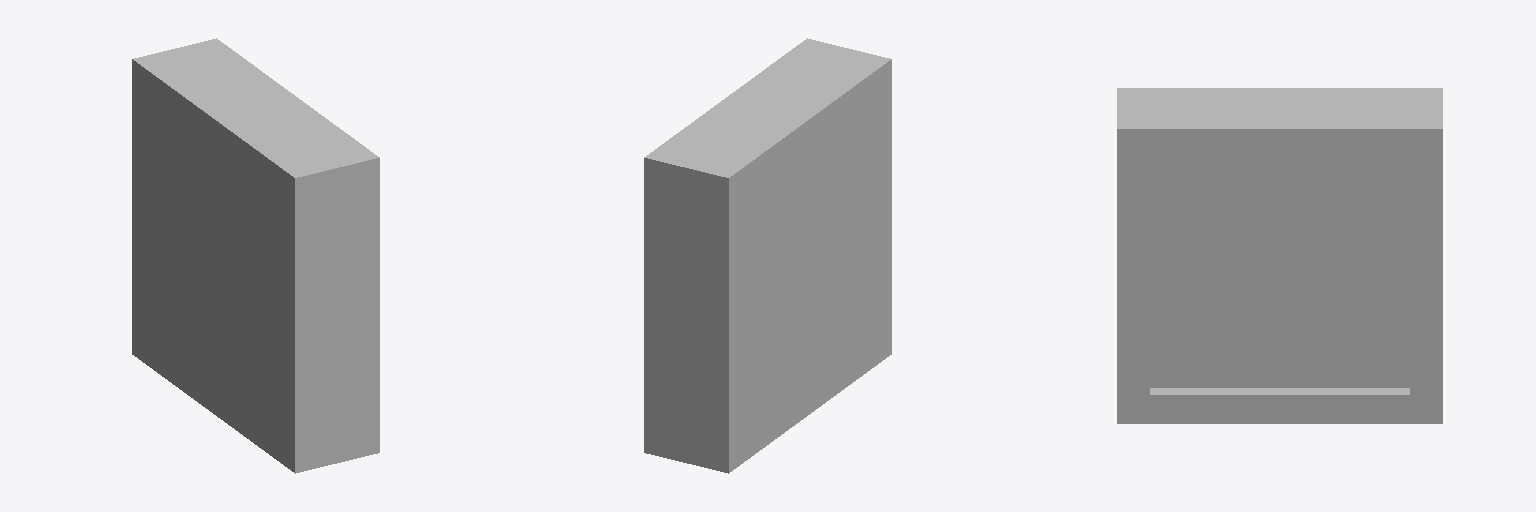
File: controlpanel.obj
The picture shows the model from 3 angles: view 1: azimuth 30°, elevation 25°; view 2: azimuth 150°, elevation 25°; view 3: azimuth 270°, elevation 25°; orthographic projection.
Visible parts, largest first — view 1: controlpanel_Cube.001; view 2: controlpanel_Cube.001; view 3: controlpanel_Cube.001.
Part boxes in pixels (x1,y1,x2,y2): controlpanel_Cube.001: (132, 38, 379, 473); controlpanel_Cube.001: (644, 38, 891, 473); controlpanel_Cube.001: (1117, 88, 1442, 423).
Bounding box in the file's own units: 0.3 × 1 × 1.